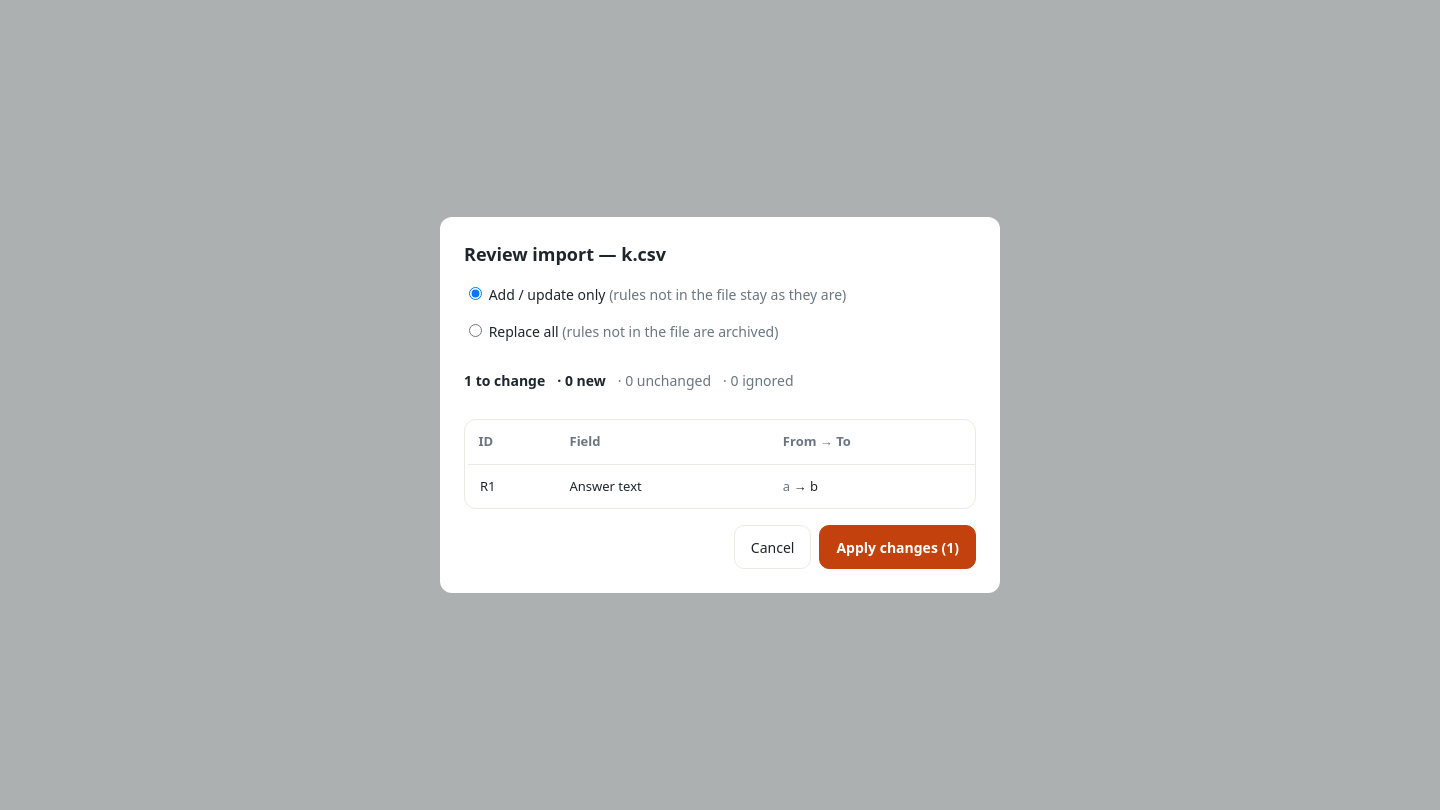
Test: ImportPreviewDialog › switching to Replace all re-runs the preview in that mode (v1.8)
This screenshot has width=1440, height=810.
Click the radio button labelled "Replace all (rules not in the file are archived)": (476, 330) [469,324,482,337]
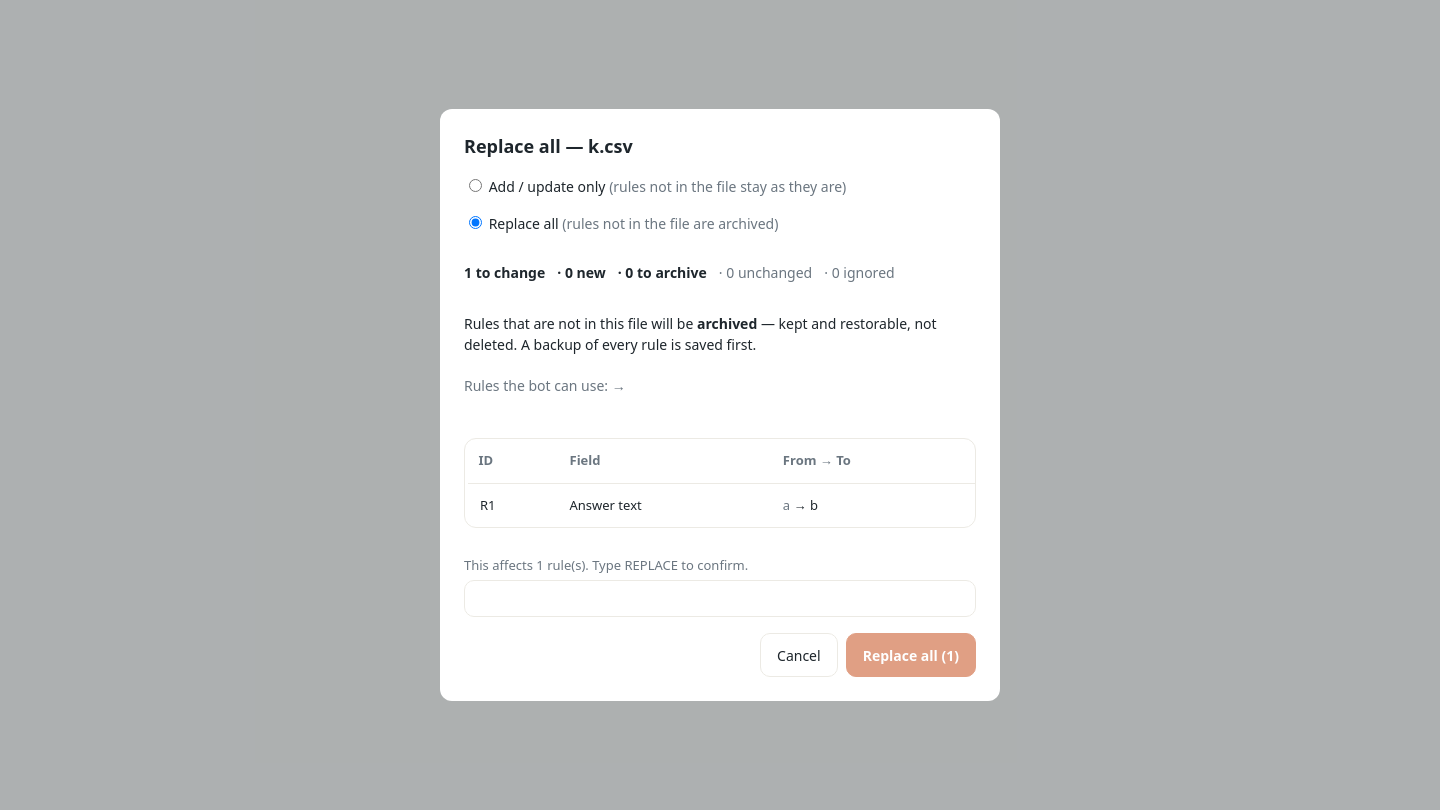
Now the field with id "replace-confirm" is shown, box [464,580,976,617]
